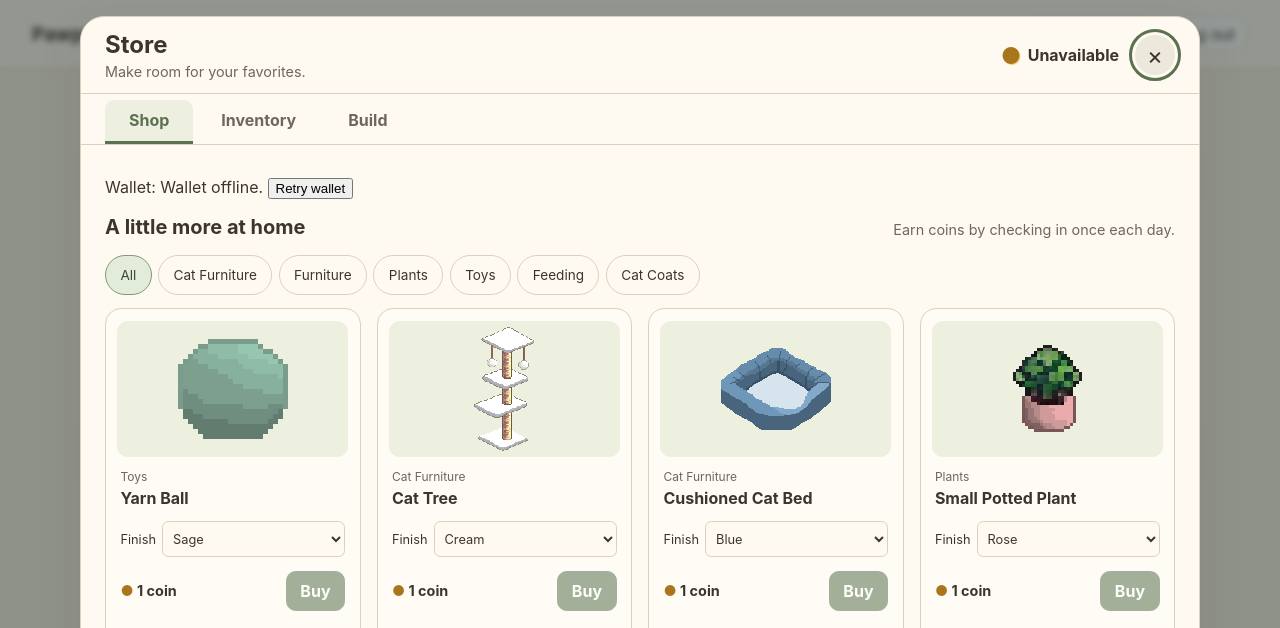
Store shell and server catalog › shows independent wallet failure and retry while the Shop remains available
Expected: the text "Wallet: Wallet offline. Retry wallet" is shown, [105, 177, 353, 199]
Click the button "Retry wallet". click: (310, 188)
box: [268, 178, 353, 199]
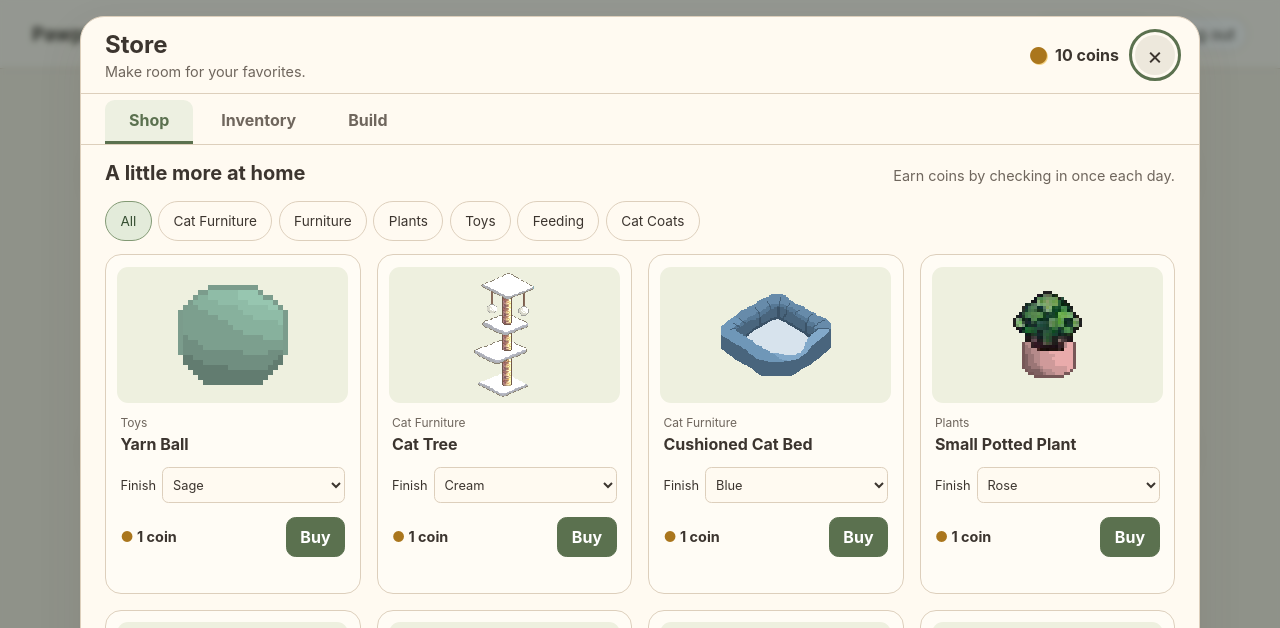
Expected: the text "10 coins" is shown, [1055, 45, 1119, 65]
